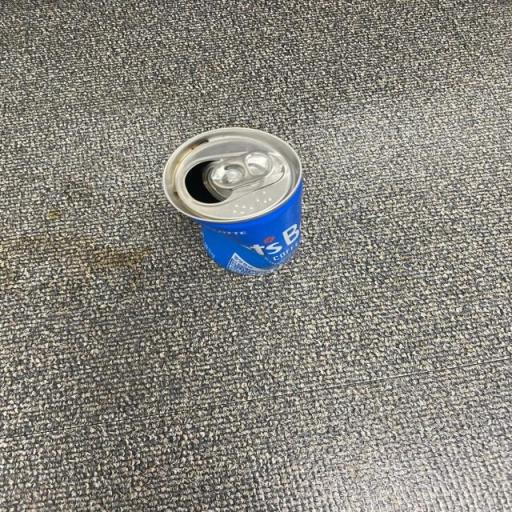metal: (139, 110, 324, 304)
